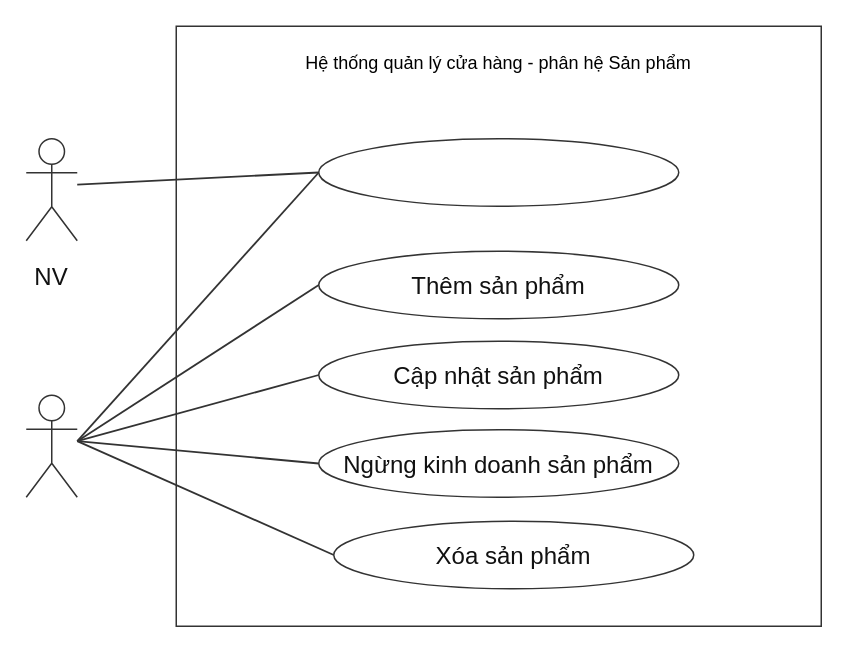
This 848x653 diagram has some shape labels left out. The shapes that lost their labels are listed below. From the top down, each one's centre as x and y in pixels, then its label:
the point at 498,171: Tra cứu sản phẩm
the point at 51,445: QLY
